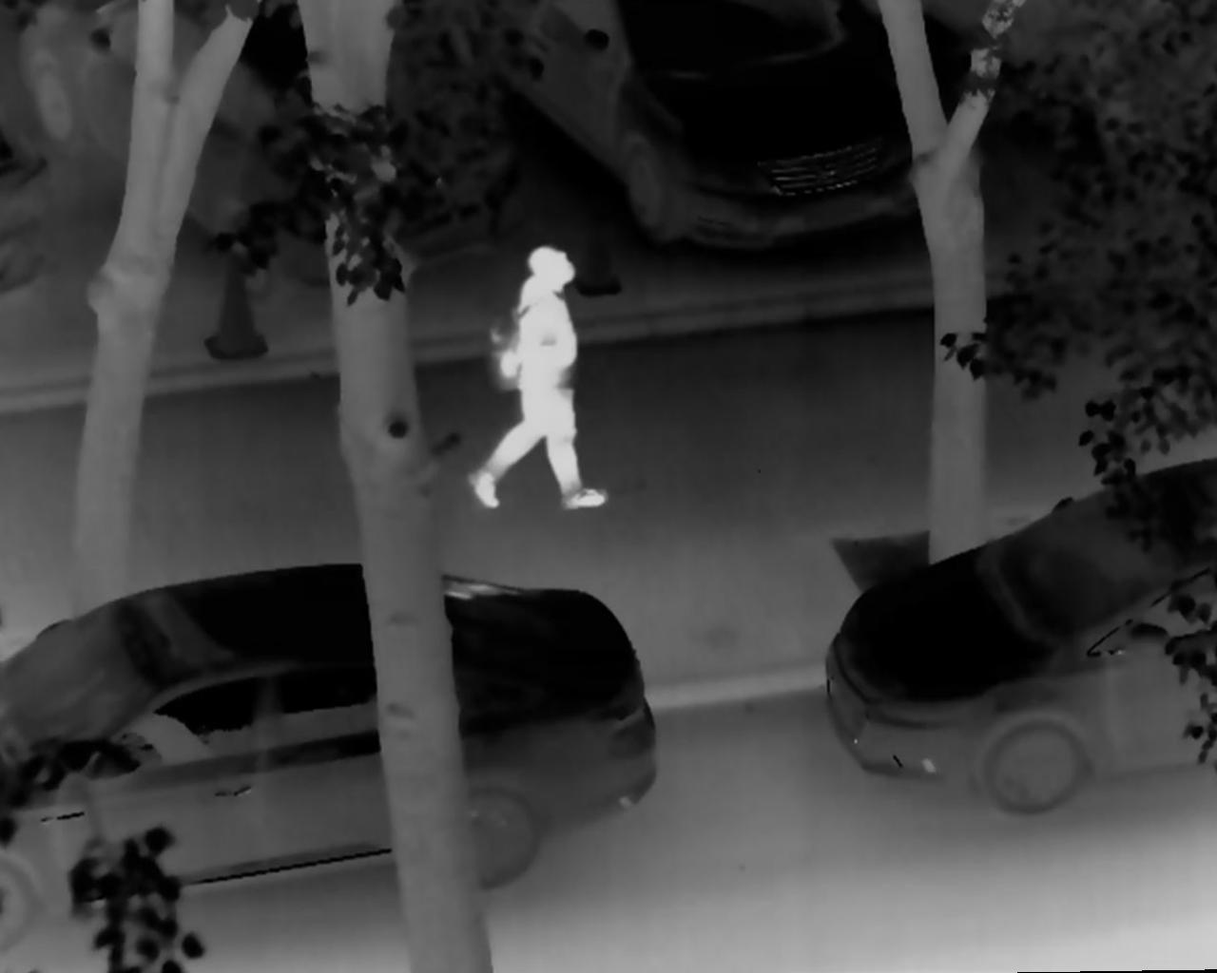person: (464, 236, 619, 517)
